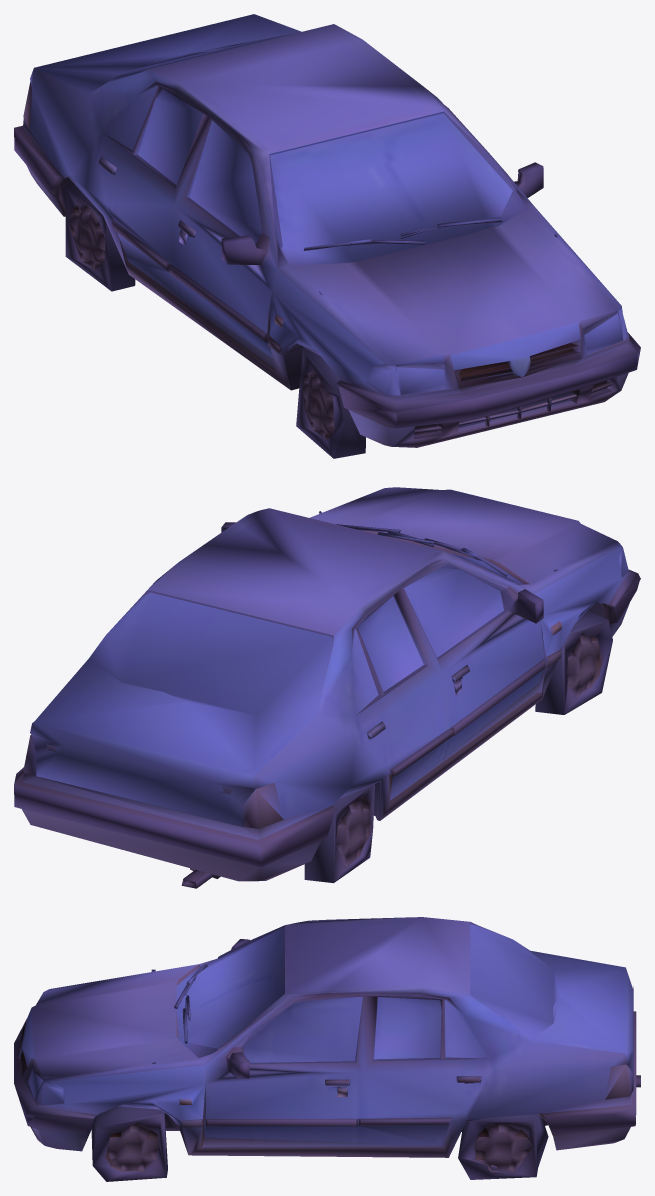
File: model.progressive.glb
The picture shows the model from 3 angles, top to bottom: view 1: azimuth 30°, elevation 25°; view 2: azimuth 150°, elevation 25°; view 3: azimuth 270°, elevation 25°; orthographic projection. The views are drawn at different scales.
Visible parts, largest first — view 1: RustyCar2; view 2: RustyCar2; view 3: RustyCar2.
Boxes of the visible parts, left/top/right/bottom form: RustyCar2: left=14, top=14, right=640, bottom=458; RustyCar2: left=14, top=487, right=640, bottom=888; RustyCar2: left=14, top=917, right=640, bottom=1181.
Size of the model in its own units: 0.5261 by 0.348 by 1.12.
1 material, 1 textured.
